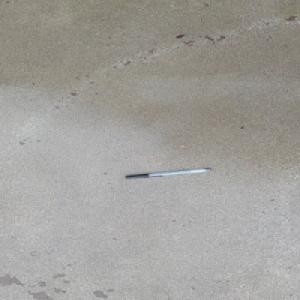Pen: (124, 167, 212, 180)
